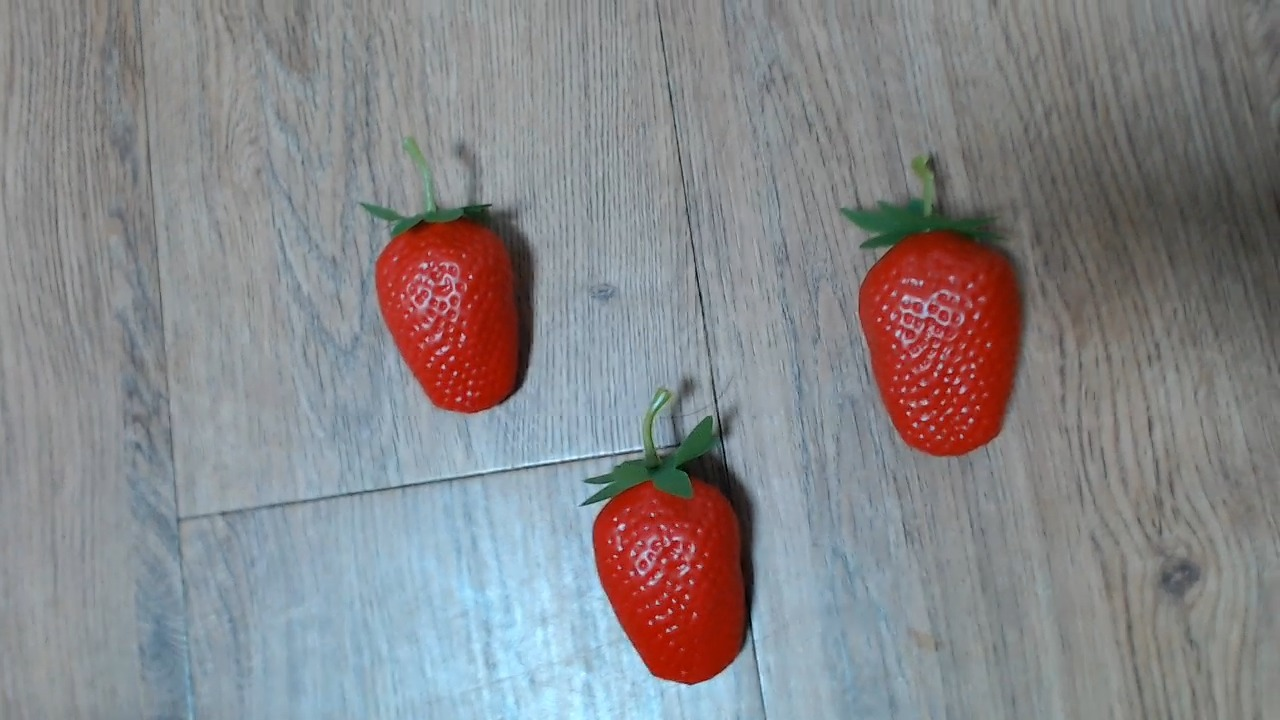strawberry: (840, 196, 1025, 454), (571, 447, 762, 683), (361, 200, 537, 419)
